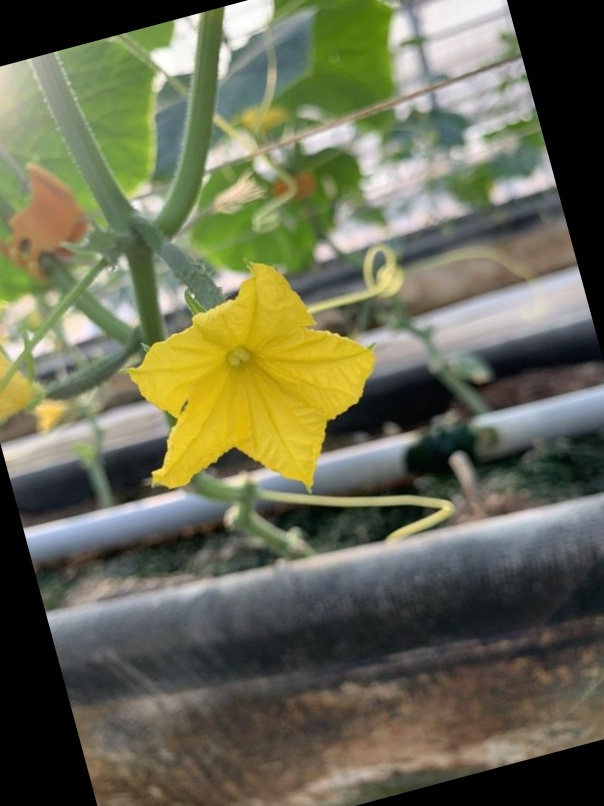flowering: (87, 230, 382, 499)
